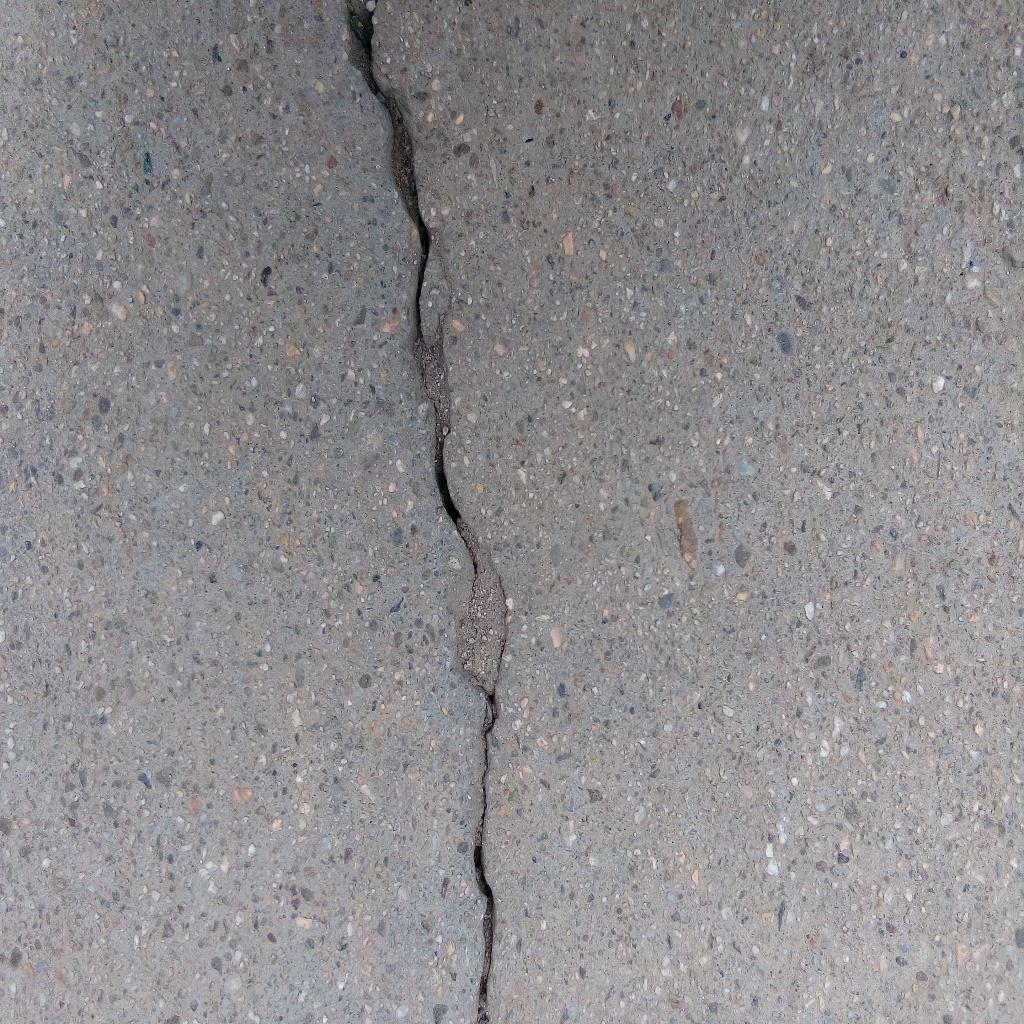Crack: (345, 1, 510, 1024)
